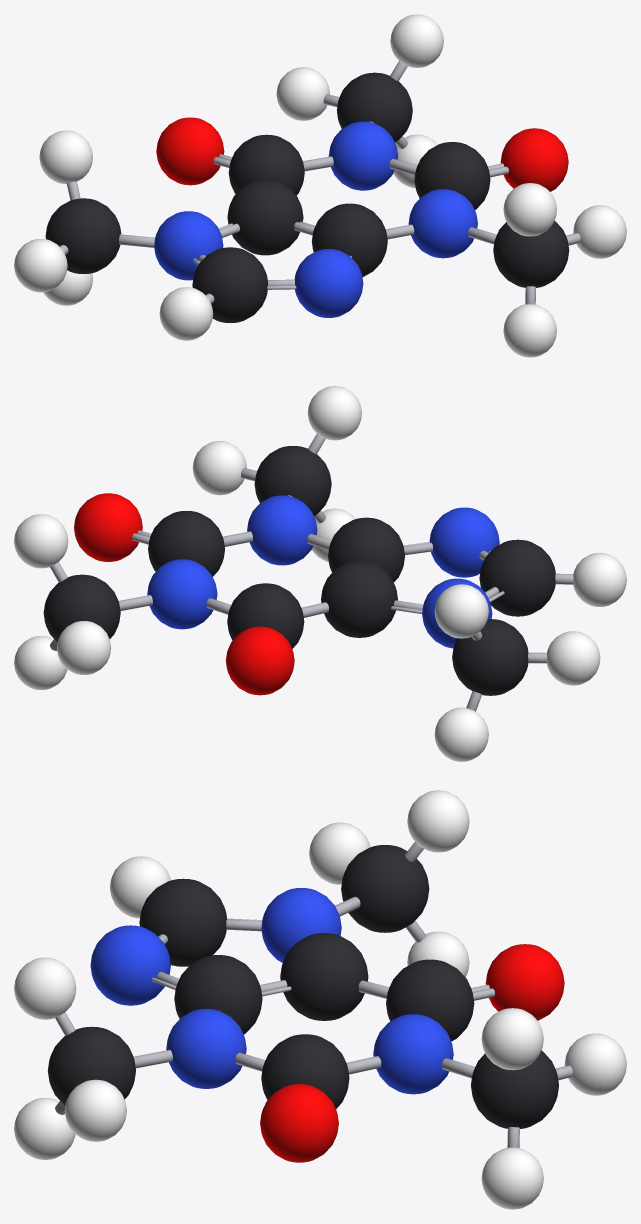
The model's file is caffeine.glb.
The picture shows the model from 3 angles, top to bottom: view 1: azimuth 30°, elevation 25°; view 2: azimuth 150°, elevation 25°; view 3: azimuth 270°, elevation 25°; orthographic projection. The views are drawn at different scales.
Visible parts, largest first — view 1: C5, C2, C0, N3, C13, N8, N12, C4, O7, C9, C10, N1 (+12 smaller); view 2: C5, C2, C0, N12, N8, O7, O11, C13, N3, C10, C9, C6 (+12 smaller); view 3: C5, C0, C2, N3, C9, N12, N8, O11, C6, C4, C13, O7 (+12 smaller).
Boxes of the visible parts, x1,y1,x2,y2 form: C5: [227, 179, 303, 255]; C2: [192, 247, 267, 322]; C0: [45, 198, 121, 274]; N3: [294, 249, 363, 317]; C13: [493, 220, 569, 287]; N8: [328, 121, 397, 190]; N12: [408, 189, 477, 258]; C4: [311, 203, 387, 276]; O7: [156, 117, 224, 185]; C9: [336, 72, 412, 142]; C10: [414, 142, 490, 209]; N1: [154, 211, 223, 280]; C5: [321, 561, 397, 637]; C2: [479, 539, 555, 616]; C0: [452, 619, 528, 695]; N12: [247, 495, 317, 565]; N8: [147, 559, 217, 629]; O7: [225, 626, 294, 695]; O11: [74, 493, 142, 561]; C13: [254, 446, 331, 515]; N3: [429, 507, 499, 577]; C10: [148, 510, 224, 576]; C9: [43, 574, 120, 642]; C6: [227, 583, 304, 648]; C5: [280, 933, 368, 1020]; C0: [341, 845, 429, 932]; C2: [139, 878, 227, 966]; N3: [90, 925, 170, 1005]; C9: [471, 1050, 558, 1128]; N12: [166, 1008, 246, 1088]; N8: [373, 1014, 453, 1094]; O11: [260, 1084, 338, 1162]; C6: [386, 959, 474, 1041]; C4: [174, 955, 262, 1034]; C13: [47, 1026, 135, 1105]; O7: [485, 944, 564, 1020].
Bounding box in the file's own units: 8.19 × 2.52 × 7.08.
